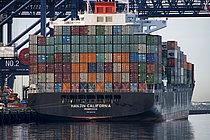Ship: (22, 15, 200, 126)
